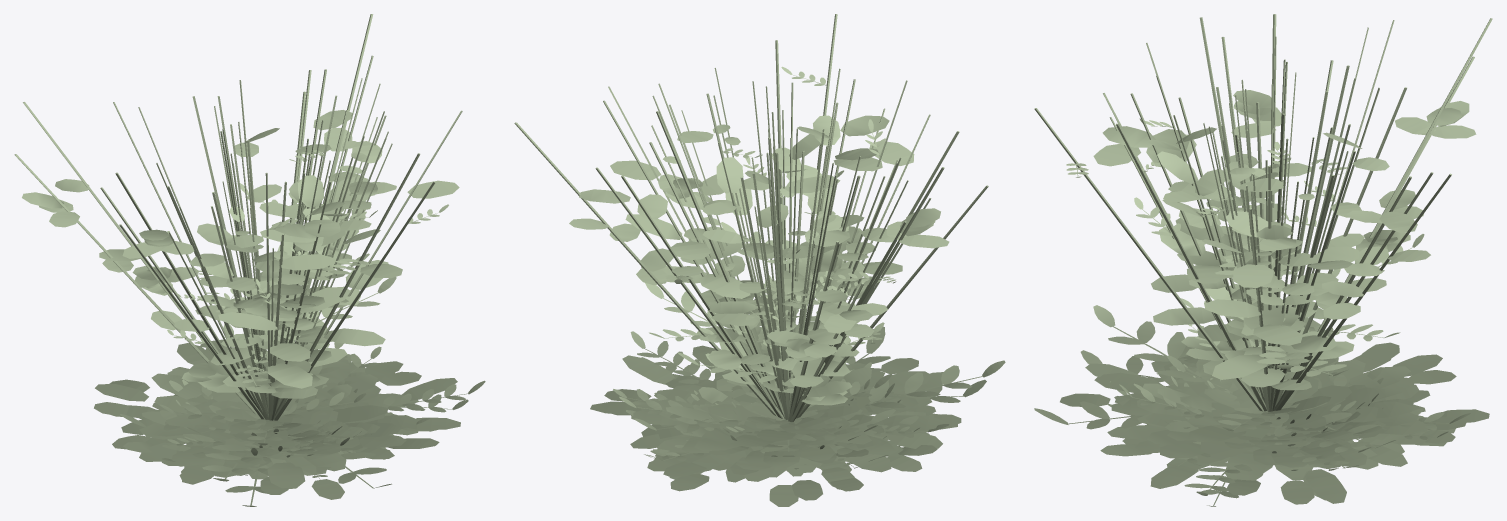
File: herb_ferny.glb
3 views of the same model, side by side, from view 1: azimuth 30°, elevation 25°; view 2: azimuth 150°, elevation 25°; view 3: azimuth 270°, elevation 25° (orthographic). The views are drawn at different scales.
Visible parts, largest first — view 1: v10_foliage, v8_foliage, v7_foliage, v11_foliage, v0_foliage, v4_foliage, v1_foliage, v9_foliage, v5_foliage, v6_foliage, v2_foliage, v3_foliage; view 2: v10_foliage, v8_foliage, v7_foliage, v11_foliage, v0_foliage, v4_foliage, v1_foliage, v9_foliage, v5_foliage, v6_foliage, v2_foliage, v3_foliage; view 3: v10_foliage, v8_foliage, v11_foliage, v7_foliage, v0_foliage, v4_foliage, v1_foliage, v9_foliage, v5_foliage, v6_foliage, v2_foliage, v3_foliage.
Boxes of the visible parts, x1,y1,x2,y2 form: v10_foliage: (121,55,462,488); v8_foliage: (14,14,460,499); v7_foliage: (120,96,396,506); v11_foliage: (174,80,386,468); v0_foliage: (142,83,397,467); v4_foliage: (163,69,485,455); v1_foliage: (100,95,448,479); v9_foliage: (229,78,388,410); v5_foliage: (176,106,361,468); v6_foliage: (138,107,377,455); v2_foliage: (113,102,321,457); v3_foliage: (222,120,392,447); v10_foliage: (603,79,957,473); v8_foliage: (514,122,961,506); v7_foliage: (619,137,1005,461); v11_foliage: (666,68,902,477); v0_foliage: (651,83,909,482); v4_foliage: (595,40,959,461); v1_foliage: (644,14,988,469); v9_foliage: (652,68,836,447); v5_foliage: (715,80,912,456); v6_foliage: (694,81,908,440); v2_foliage: (709,108,931,438); v3_foliage: (731,86,868,414); v10_foliage: (1093,93,1446,480); v8_foliage: (1060,14,1492,504); v11_foliage: (1142,75,1413,469); v7_foliage: (1034,65,1395,468); v0_foliage: (1130,103,1425,463); v4_foliage: (1116,17,1470,506); v1_foliage: (1034,37,1448,446); v9_foliage: (1210,84,1353,444); v5_foliage: (1110,43,1383,436); v6_foliage: (1171,27,1378,453); v2_foliage: (1109,20,1394,431); v3_foliage: (1193,72,1311,423).
Size of the model in its own units: 1.2 by 1 by 1.2.
